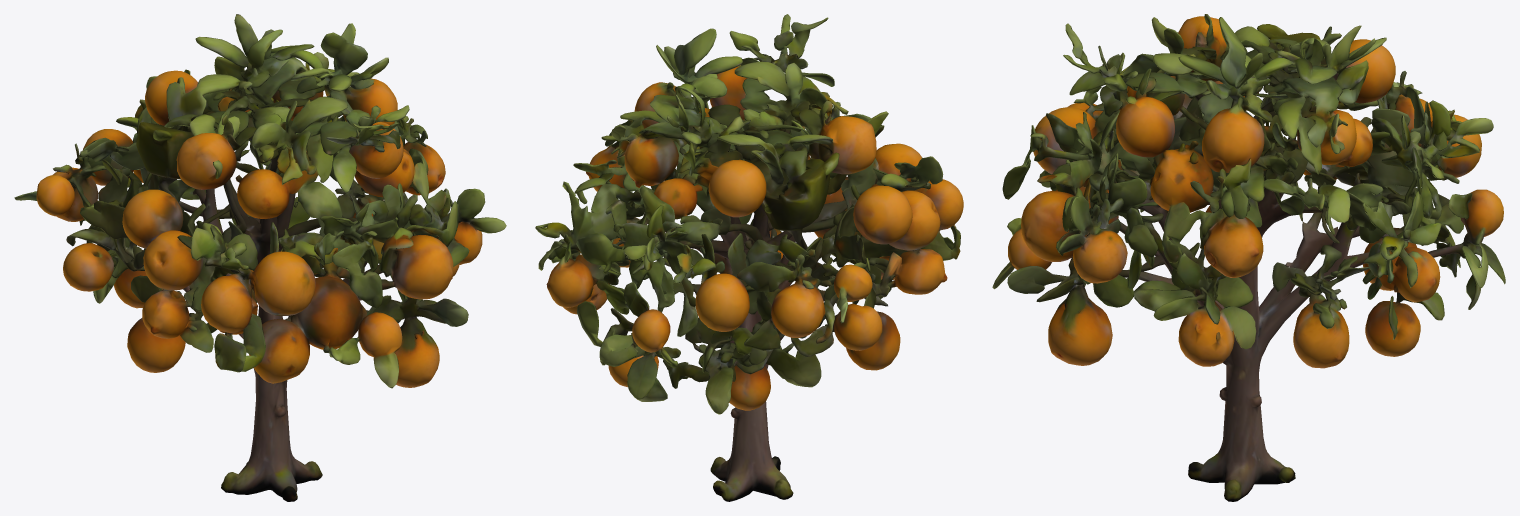
The model's file is nature-tree-orange.glb.
3 views of the same model, side by side, from view 1: azimuth 30°, elevation 25°; view 2: azimuth 150°, elevation 25°; view 3: azimuth 270°, elevation 25° (orthographic). The views are drawn at different scales.
Visible parts, largest first — view 1: tripo_node_6bddaab2-19e2-4786-a76d-dbd1856c07c2; view 2: tripo_node_6bddaab2-19e2-4786-a76d-dbd1856c07c2; view 3: tripo_node_6bddaab2-19e2-4786-a76d-dbd1856c07c2.
Boxes of the visible parts, x1=… form: tripo_node_6bddaab2-19e2-4786-a76d-dbd1856c07c2: x1=14, y1=14, x2=506, y2=501; tripo_node_6bddaab2-19e2-4786-a76d-dbd1856c07c2: x1=535, y1=14, x2=963, y2=501; tripo_node_6bddaab2-19e2-4786-a76d-dbd1856c07c2: x1=992, y1=14, x2=1505, y2=501.
Size of the model in its own units: 4.12 by 5 by 4.77.
Materials: 1 (1 with a texture image).
